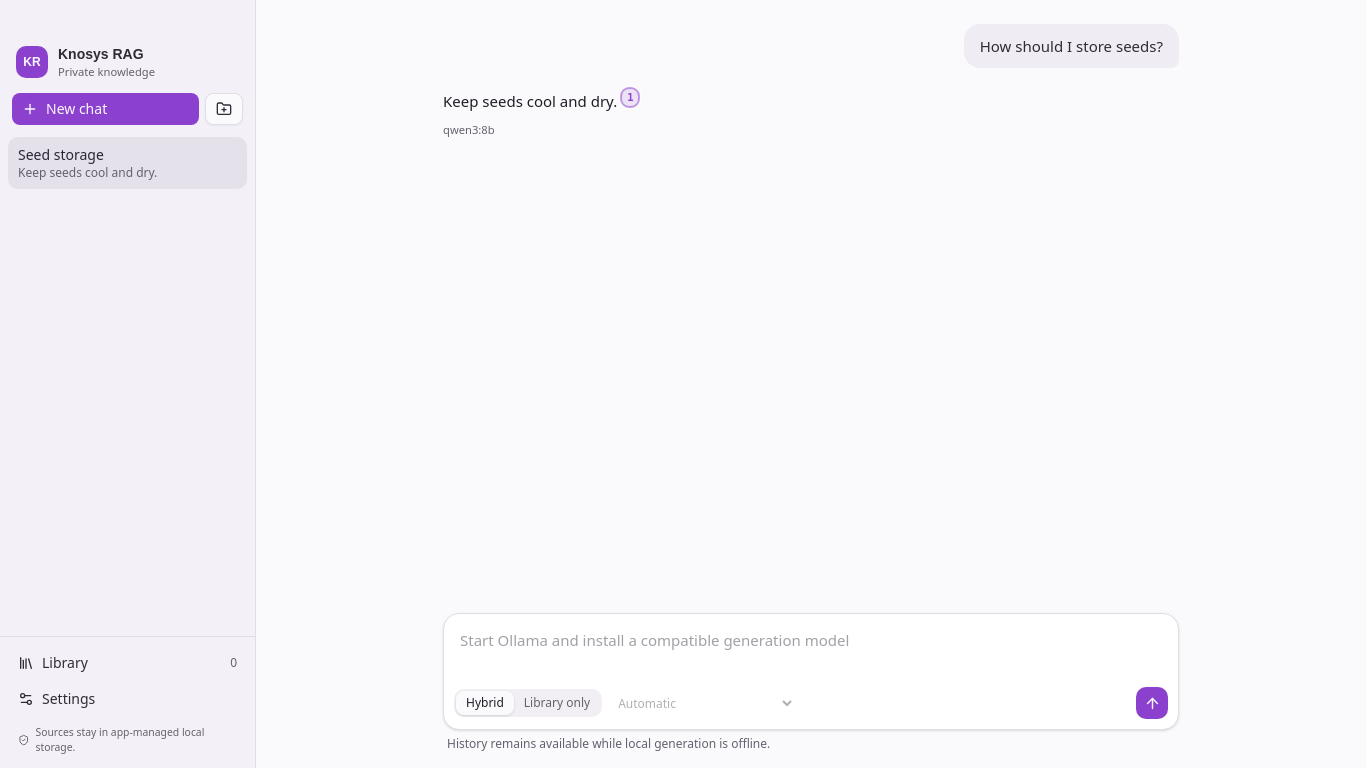
Test: chat › keeps history and exact evidence readable while generation is offline
Expected: the text box named "Question" is disabled, [444,614,1178,681]
Expected: the text "History remains available while local generation is offline." is shown, [447,735,770,752]
Click the button named "Evidence 1: Seed handbook, Page 7" at point(630, 98), box [621,88,640,107]
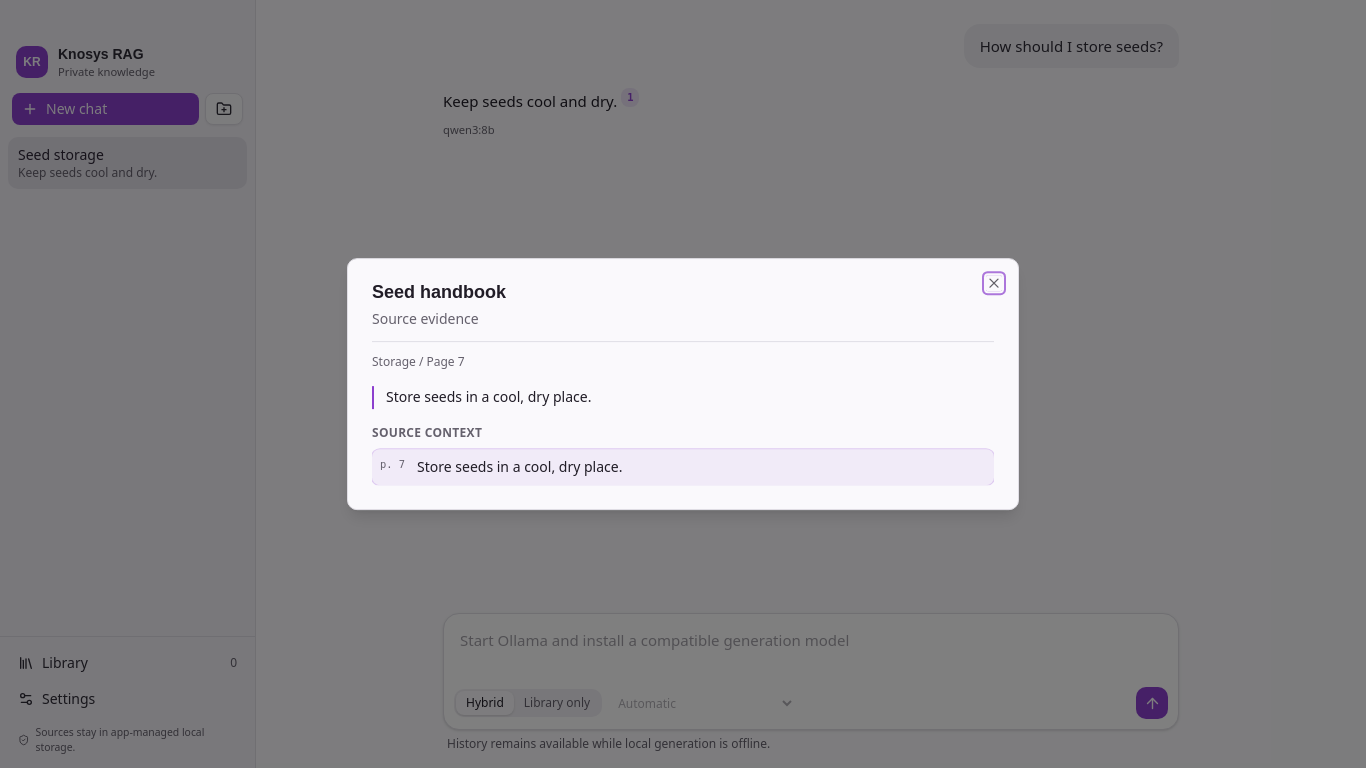
Result: the dialog "Seed handbook" is shown at [347,258,1019,510]
Result: the text "Source evidence" is shown at [372,309,479,328]
Result: the text "Store seeds in a cool, dry place." is shown 2 times at [372,386,994,409]; [417,457,622,477]
Press Escape in the button, box [986,275,1002,291]
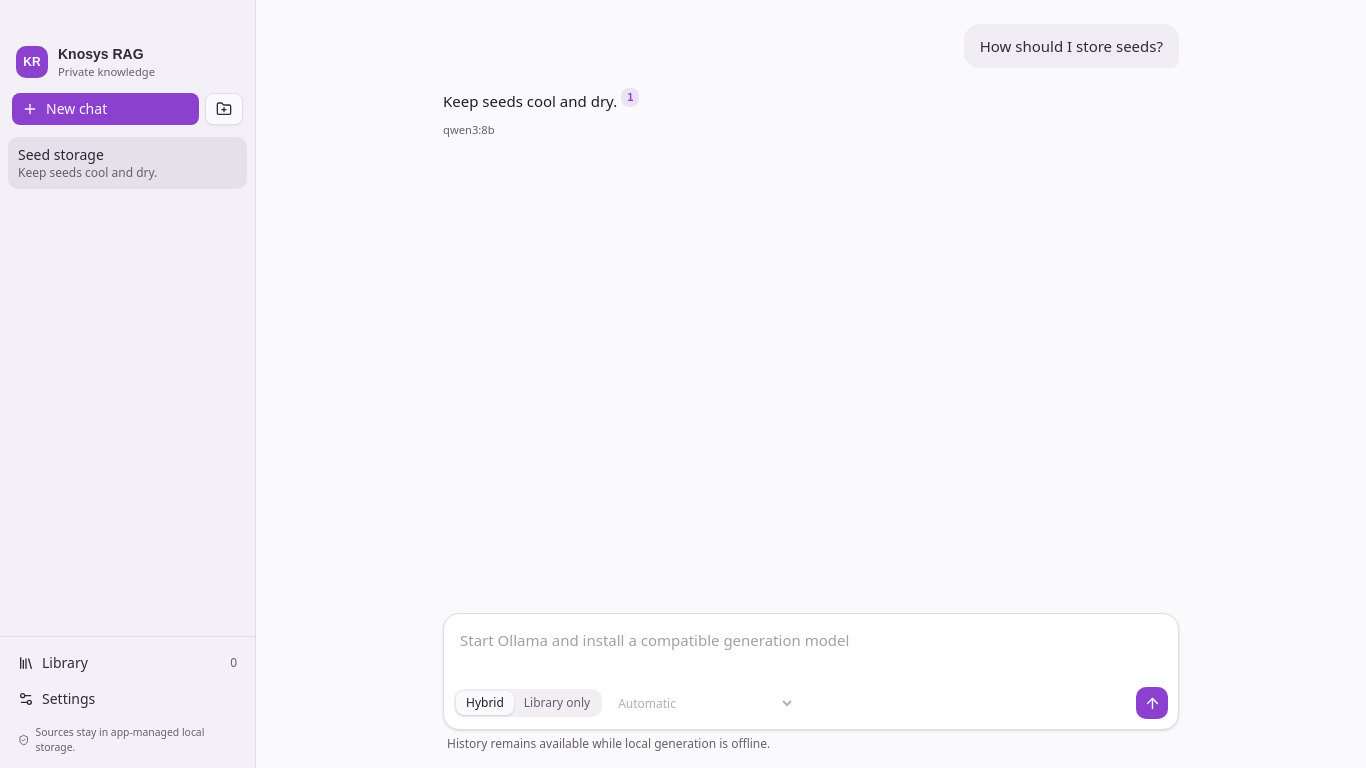
Result: the dialog is gone
